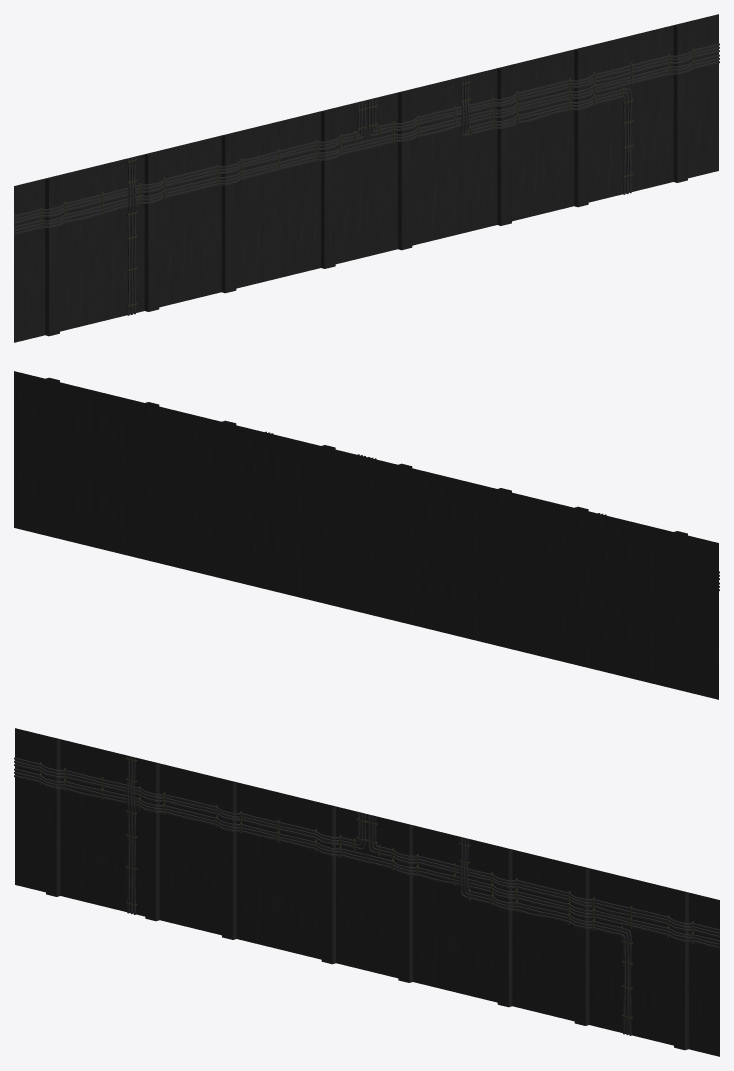
File: SW_ENV_RailTunnelWall_B_01b_20m_FF.fbx
3 views of the same model, one above another, from view 1: azimuth 30°, elevation 25°; view 2: azimuth 150°, elevation 25°; view 3: azimuth 330°, elevation 25° (orthographic).
Visible parts, largest first — view 1: SW_ENV_RailTunnelWall_B_01b_20m_FF; view 2: SW_ENV_RailTunnelWall_B_01b_20m_FF; view 3: SW_ENV_RailTunnelWall_B_01b_20m_FF.
Part boxes in pixels (x1,y1,x2,y2): SW_ENV_RailTunnelWall_B_01b_20m_FF: [14, 14, 719, 342]; SW_ENV_RailTunnelWall_B_01b_20m_FF: [14, 371, 719, 699]; SW_ENV_RailTunnelWall_B_01b_20m_FF: [14, 728, 719, 1056].
Bounding box in the file's own units: 2000 × 425 × 14.88.
